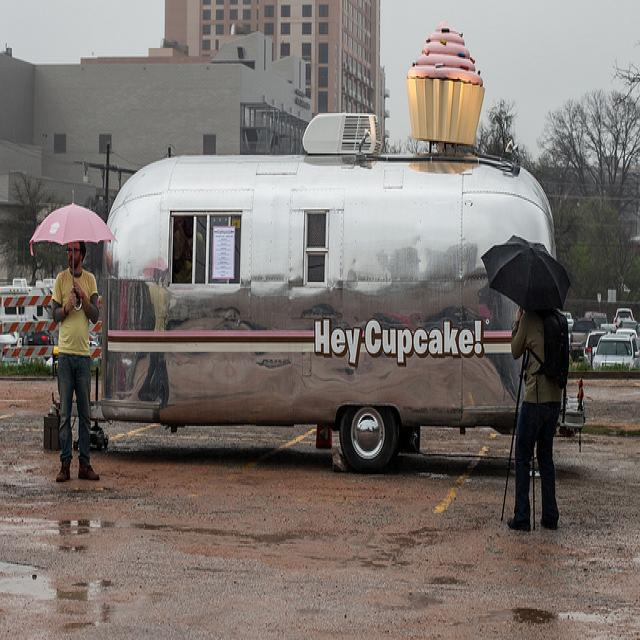Vehicle: (591, 331, 640, 371), (570, 317, 597, 360), (588, 312, 638, 331), (584, 330, 608, 365), (22, 330, 55, 346), (612, 308, 636, 324), (562, 310, 574, 331), (615, 329, 638, 338)
